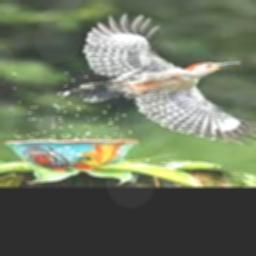Woodpecker: (67, 14, 256, 142)
